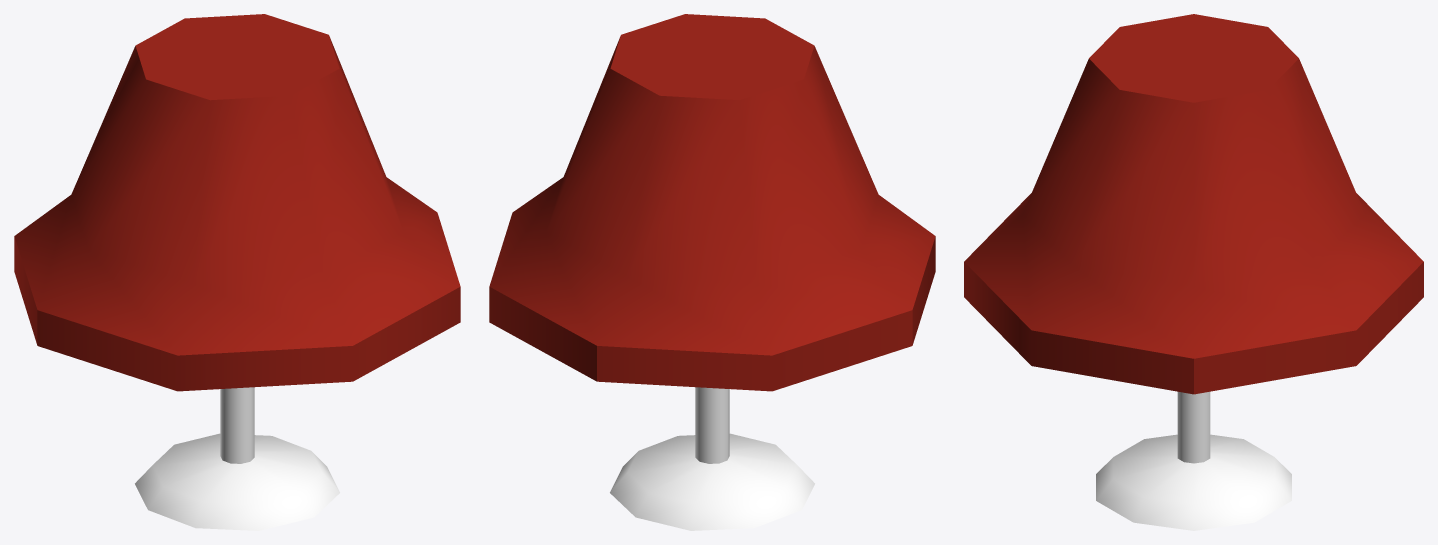
Rendered from SM_Desk_Lamp_01.fbx.
The picture shows the model from 3 angles, left to right: view 1: azimuth 30°, elevation 25°; view 2: azimuth 150°, elevation 25°; view 3: azimuth 270°, elevation 25°; orthographic projection.
Parts seen in each view (by area): view 1: Lampe; view 2: Lampe; view 3: Lampe.
Boxes of the visible parts, box(x1,y1,x2,y2) form: Lampe: box(14, 14, 460, 530); Lampe: box(489, 14, 935, 530); Lampe: box(964, 14, 1423, 530).
Bounding box in the file's own units: 58.53 × 60.27 × 58.53.
